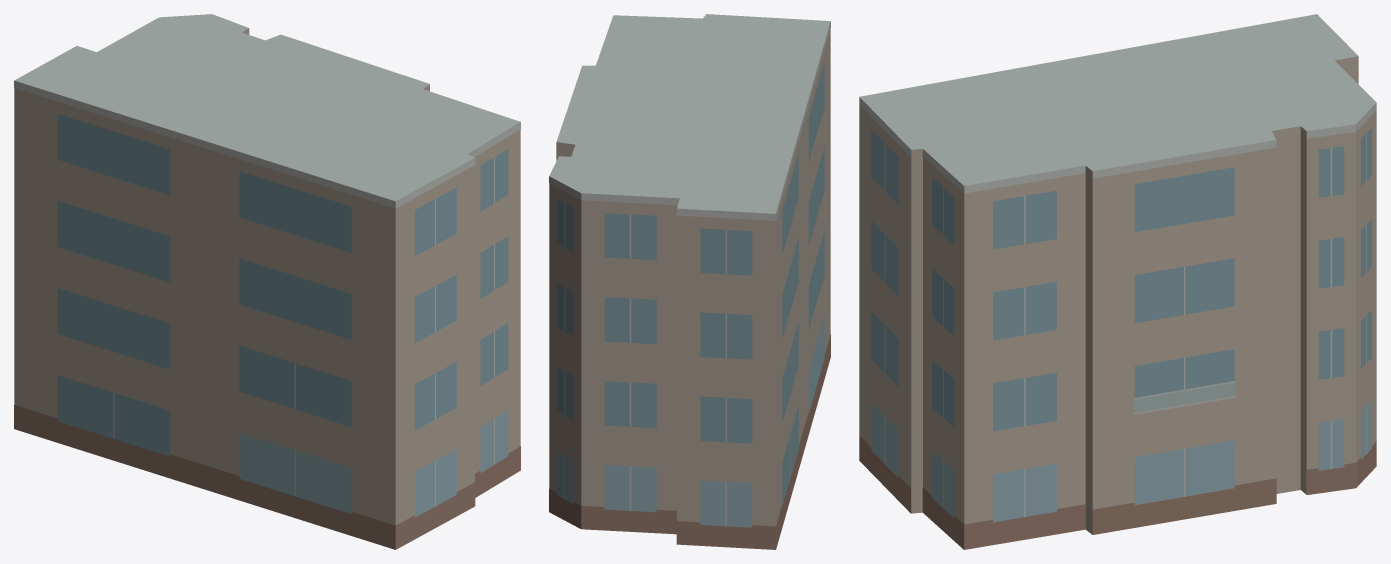
The model's file is survey-upis-32900642.glb.
3 renders of one model, left to right at view 1: azimuth 30°, elevation 25°; view 2: azimuth 150°, elevation 25°; view 3: azimuth 270°, elevation 25°, orthographic. The views are drawn at different scales.
Visible parts, largest first — view 1: survey-upis-32900642.tmp; view 2: survey-upis-32900642.tmp; view 3: survey-upis-32900642.tmp.
Boxes of the visible parts, box(x1,y1,x2,y2) form: survey-upis-32900642.tmp: box(14, 14, 520, 549); survey-upis-32900642.tmp: box(549, 14, 830, 549); survey-upis-32900642.tmp: box(859, 14, 1376, 549).
Bounding box in the file's own units: 11.87 × 11.7 × 15.08.
